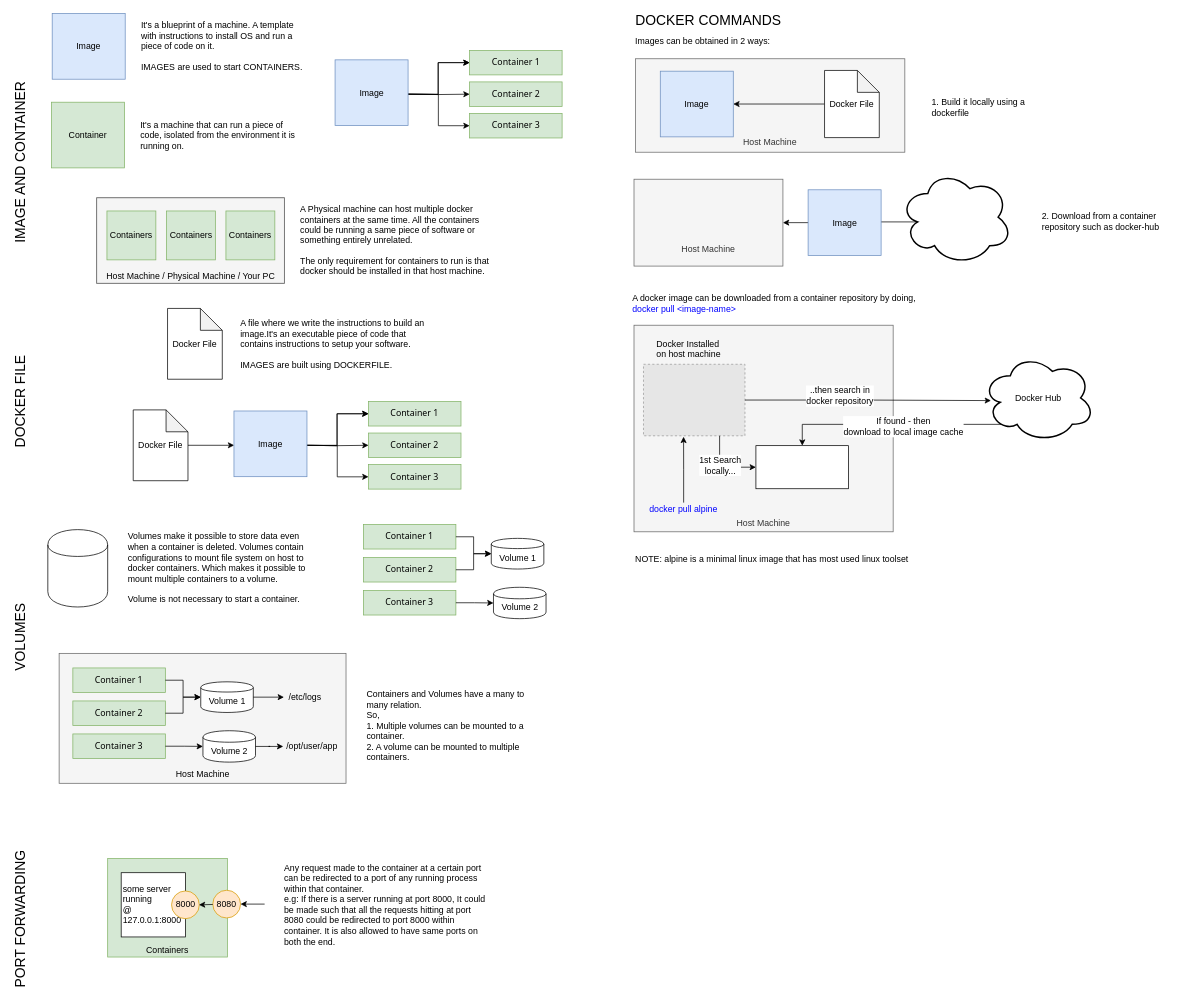
This 1193x1007 diagram has some shape labels left out. Grey dashed boxes stand in for pictures. The centre of each missing label's shape, as x and y in pixels:
"Container Repository" goes at (956,217).
"local image cache" goes at (802,467).
"Volume" goes at (77,568).
